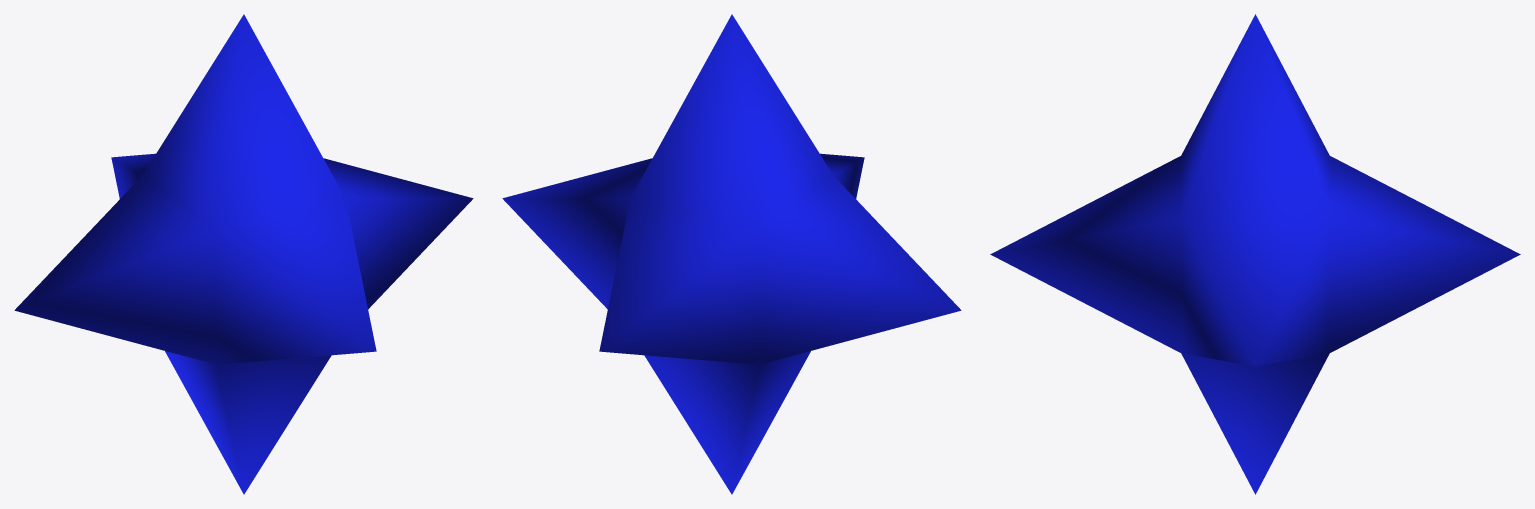
Rendered from gizmo_base.glb.
The picture shows the model from 3 angles, left to right: view 1: azimuth 30°, elevation 25°; view 2: azimuth 150°, elevation 25°; view 3: azimuth 270°, elevation 25°; orthographic projection.
Parts seen in each view (by area): view 1: Cube; view 2: Cube; view 3: Cube.
Boxes of the visible parts, bbox=[...] form: Cube: bbox=[14, 14, 473, 494]; Cube: bbox=[502, 14, 961, 494]; Cube: bbox=[990, 14, 1520, 494].
Bounding box in the file's own units: 2 × 2 × 2.
